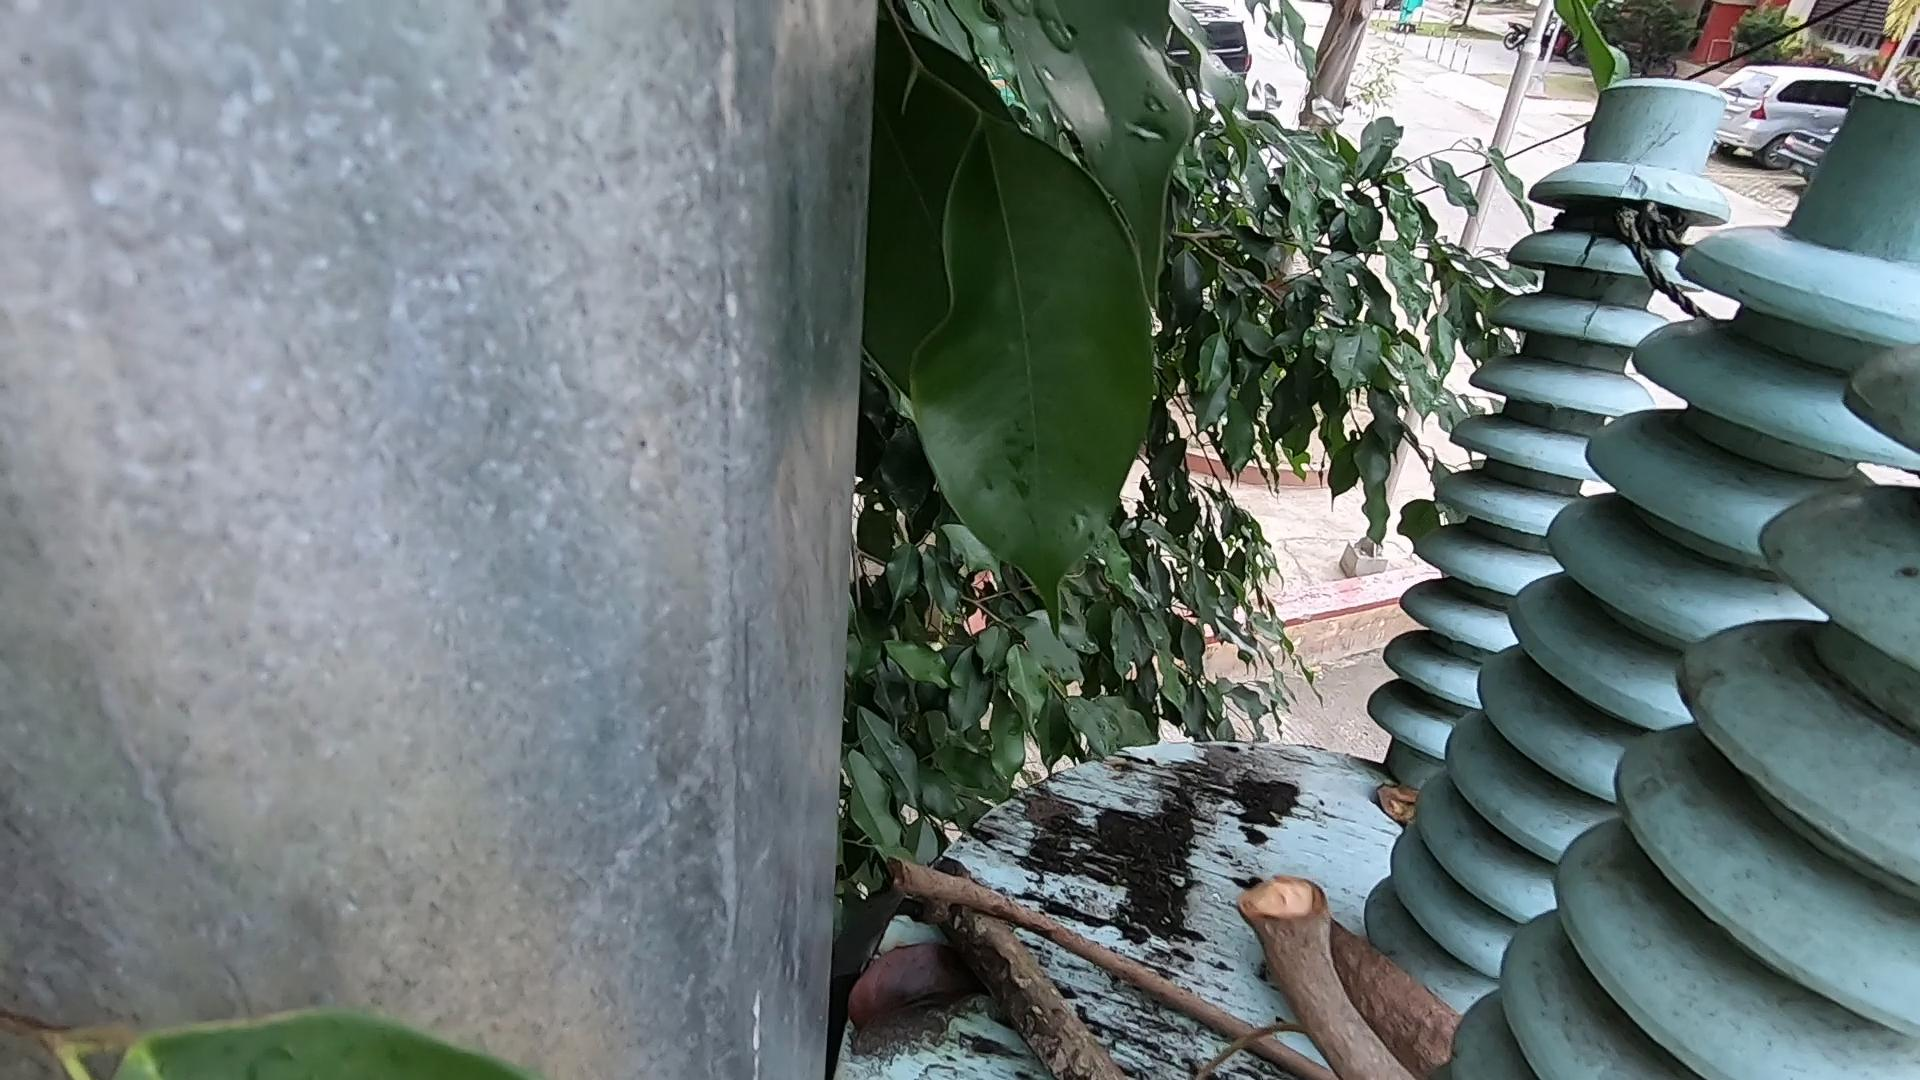branch with leaves: (885, 849, 1295, 1065), (1236, 844, 1422, 1080)
leaf: (858, 951, 1010, 1051), (1364, 761, 1429, 898)
mahogany fruit: (1280, 915, 1535, 1080)
tree branch: (1288, 865, 1526, 1080)
